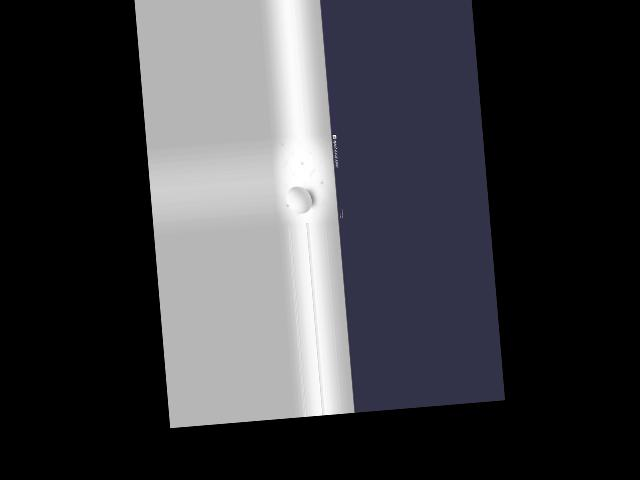egg: (286, 186, 313, 215)
